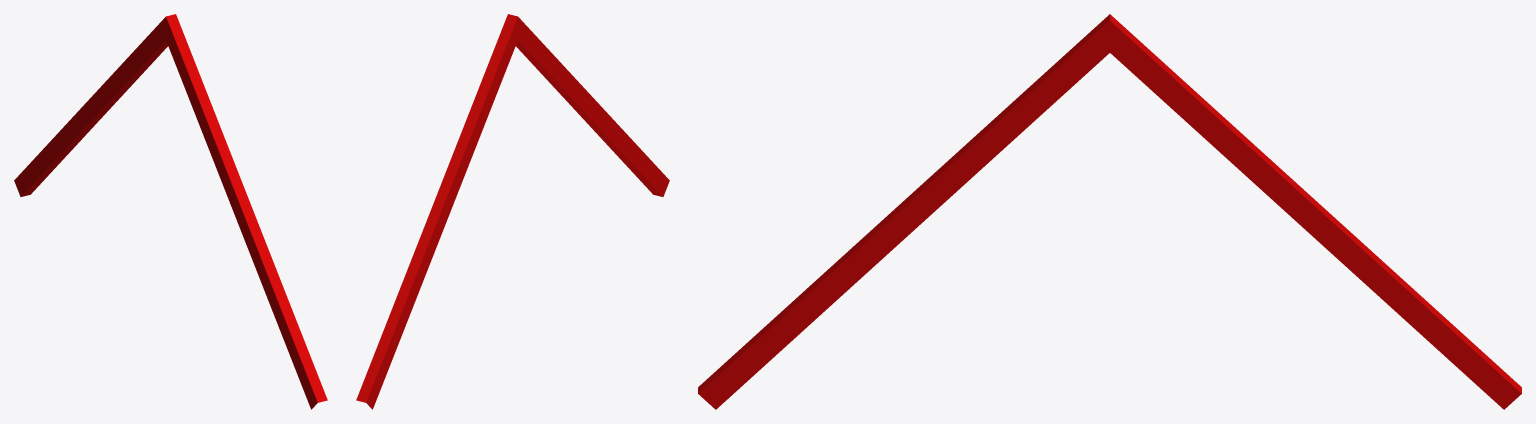
The model's file is Attic_WoodenFrame_04_LP.glb.
3 renders of one model, left to right at view 1: azimuth 30°, elevation 25°; view 2: azimuth 150°, elevation 25°; view 3: azimuth 270°, elevation 25°, orthographic. The views are drawn at different scales.
Parts seen in each view (by area): view 1: Attic_WoodenFrame_04_LP; view 2: Attic_WoodenFrame_04_LP; view 3: Attic_WoodenFrame_04_LP.
Boxes of the visible parts, box(x1,y1,x2,y2) form: Attic_WoodenFrame_04_LP: box(14, 14, 327, 409); Attic_WoodenFrame_04_LP: box(356, 14, 669, 409); Attic_WoodenFrame_04_LP: box(698, 14, 1521, 409).
Size of the model in its own units: 0.1743 by 4.76 by 9.13.
